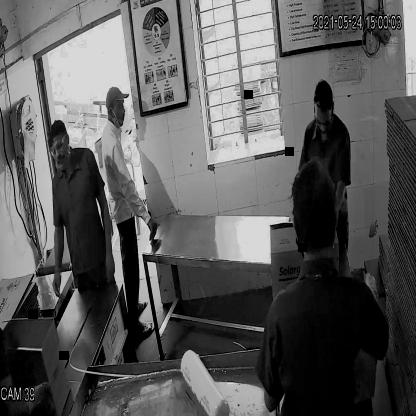goggles: (46, 138, 69, 158)
